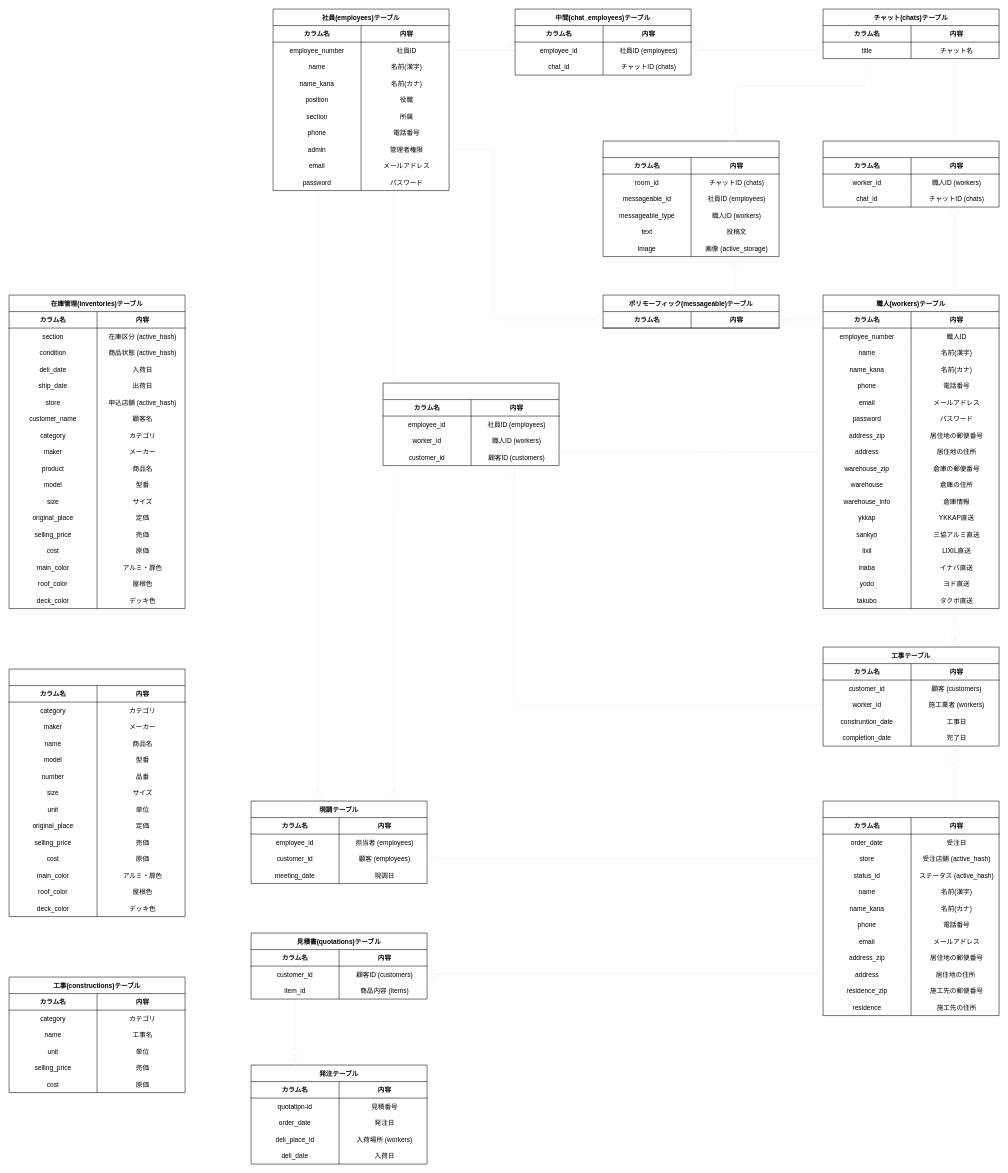
This 1008x1173 diagram has some shape labels left out. Each missing label, with the box of its shape:
カレンダー(calendars)テーブル: (383, 383, 559, 466)
メッセージ(messages)テーブル: (603, 141, 779, 257)
中間(chat_workers)テーブル: (823, 141, 999, 207)
商品(items)テーブル: (9, 669, 185, 917)
顧客(customers)テーブル: (823, 801, 999, 1016)
